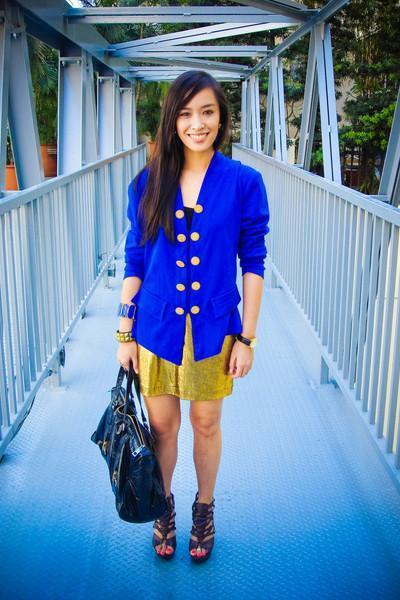bag: (91, 358, 175, 527)
jacket: (125, 151, 268, 365)
shoe: (152, 492, 214, 565)
skirt: (135, 314, 251, 403)
